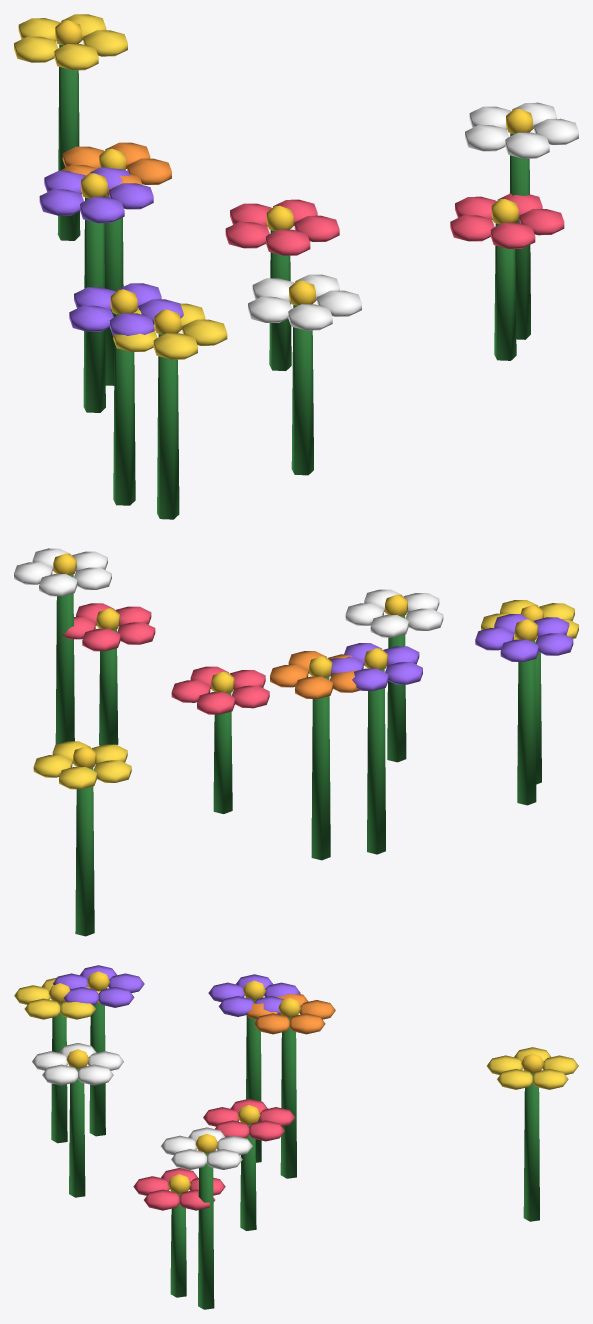
The model's file is Flowers.fbx.
3 renders of one model, top to bottom at view 1: azimuth 30°, elevation 25°; view 2: azimuth 150°, elevation 25°; view 3: azimuth 270°, elevation 25°, orthographic. The views are drawn at different scales.
Visible parts, largest first — view 1: Flowers; view 2: Flowers; view 3: Flowers.
Boxes of the visible parts, x1,y1,x2,y2 form: Flowers: (14, 14, 578, 519); Flowers: (14, 548, 578, 936); Flowers: (14, 965, 578, 1309).
Size of the model in its own units: 3.84 by 1.54 by 4.39.
1 material, 1 textured.
